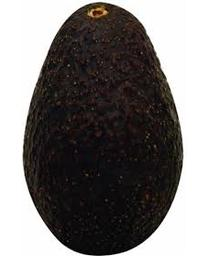avocado: (23, 4, 184, 255)
